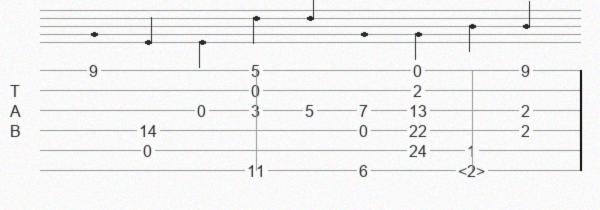0: (143, 142, 156, 158), (197, 102, 210, 118), (251, 82, 264, 98), (359, 122, 372, 138), (413, 62, 426, 78)
1: (467, 142, 480, 158)
11: (247, 162, 269, 178)
13: (409, 102, 431, 118)
14: (139, 122, 161, 138)
2: (413, 82, 426, 98), (521, 102, 534, 118), (521, 122, 534, 138)
22: (409, 122, 431, 138)
24: (409, 142, 431, 158)
3: (251, 102, 264, 118)
5: (251, 62, 264, 78), (305, 102, 318, 118)
6: (359, 162, 372, 178)
7: (359, 102, 372, 118)
9: (89, 62, 102, 78), (521, 62, 534, 78)
harmonic: (458, 162, 489, 178)
